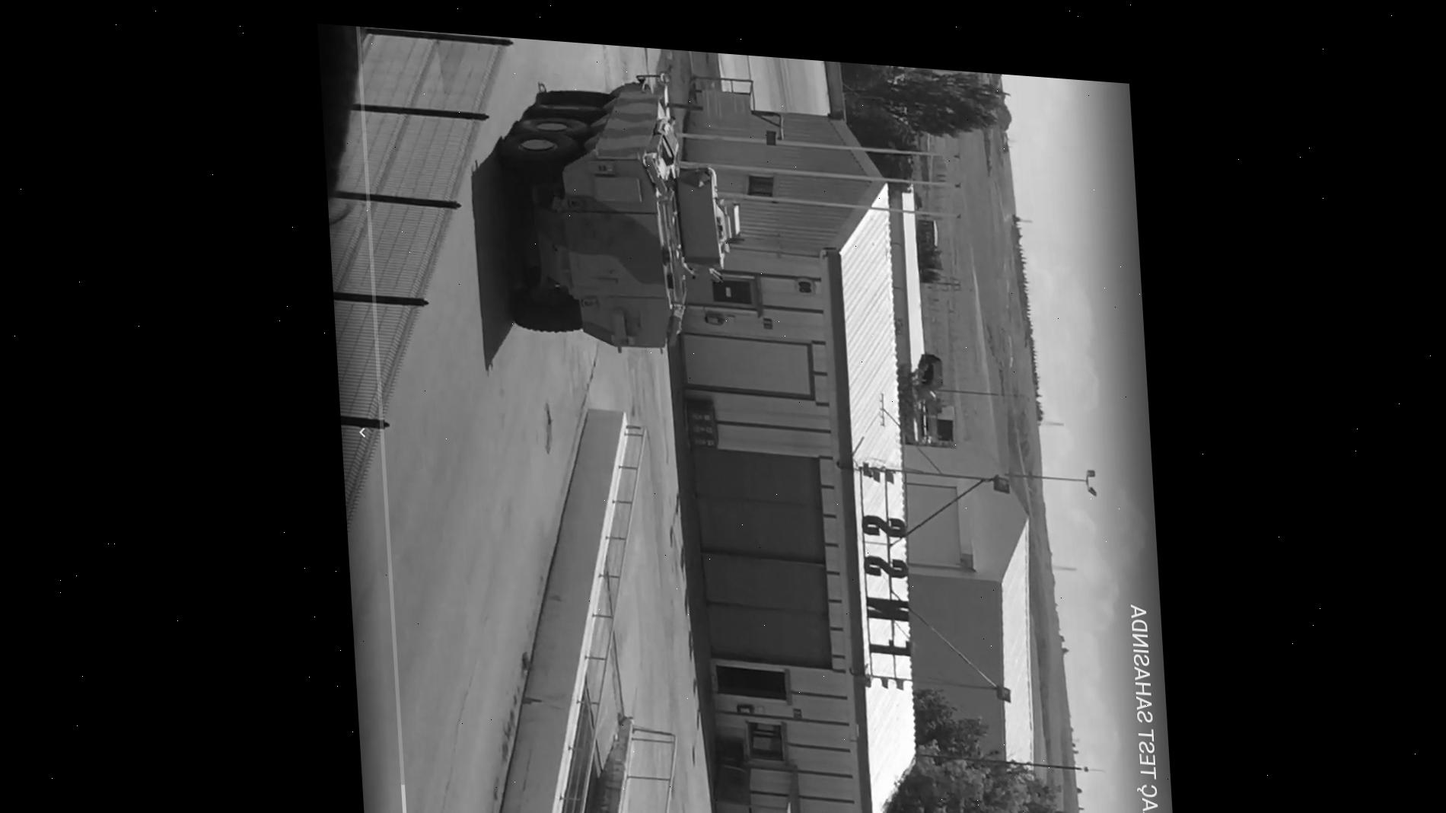armored_car: (489, 57, 746, 363)
